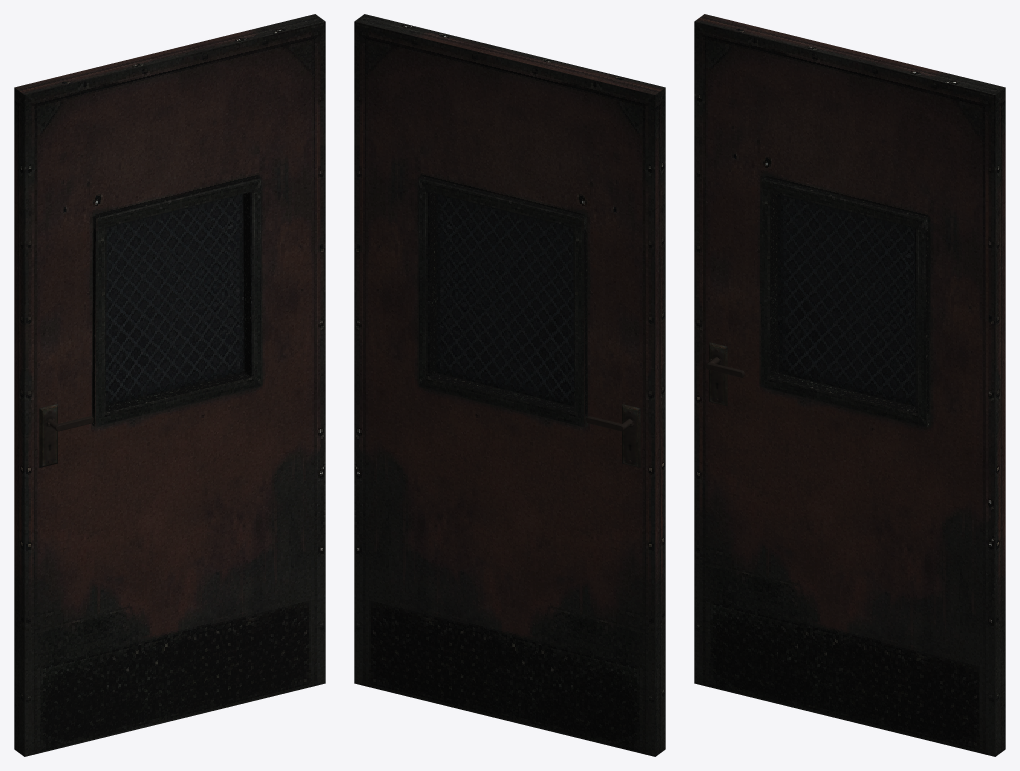
Rendered from door_4.glb.
The picture shows the model from 3 angles, left to right: view 1: azimuth 30°, elevation 25°; view 2: azimuth 150°, elevation 25°; view 3: azimuth 330°, elevation 25°; orthographic projection.
Visible parts, largest first — view 1: door_4; view 2: door_4; view 3: door_4.
Boxes of the visible parts, x1,y1,x2,y2 form: door_4: [14, 14, 325, 756]; door_4: [354, 14, 665, 756]; door_4: [694, 14, 1005, 756].
Bounding box in the file's own units: 1 × 2.1 × 0.178.
Materials: 2 (2 with a texture image).
